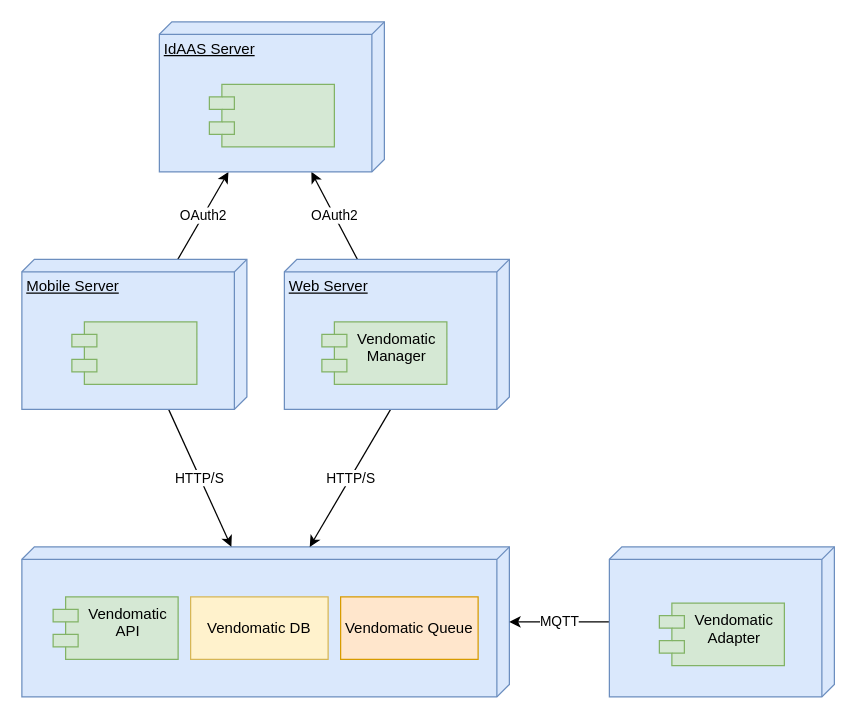
The diagram is 856 pixels wide and 719 high, and some of its shapes have lost their labels. Each missing label, with the box of its shape:
API Server: (21, 546, 509, 697)
AuthN/Z: (208, 83, 334, 147)
Machine: (608, 546, 834, 697)
Vendomatic Mobile: (71, 321, 197, 384)
